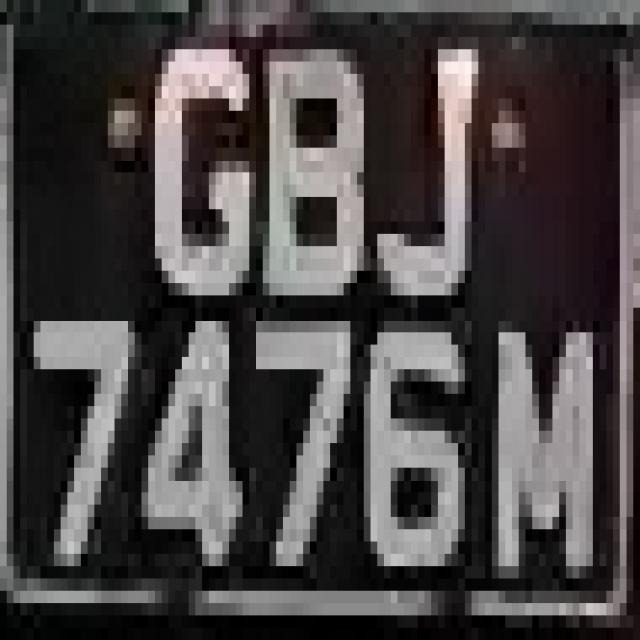4: (121, 283, 243, 628)
6: (350, 296, 458, 616)
7: (20, 246, 142, 591), (236, 295, 350, 591)
B: (249, 37, 384, 308)
G: (141, 49, 263, 320)
J: (371, 25, 498, 357)
M: (485, 283, 606, 628)
